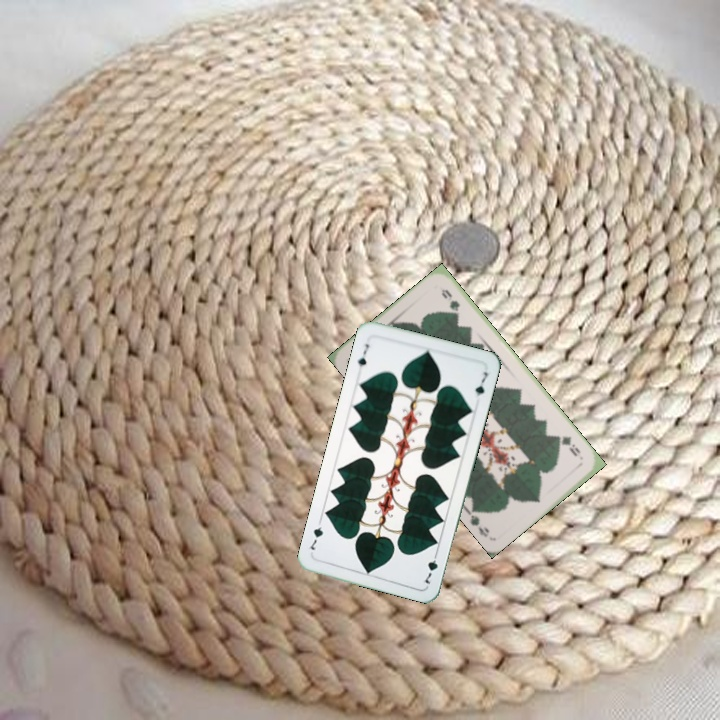G7: (420, 547, 441, 587), (354, 339, 372, 369)
G9: (553, 431, 583, 459)
